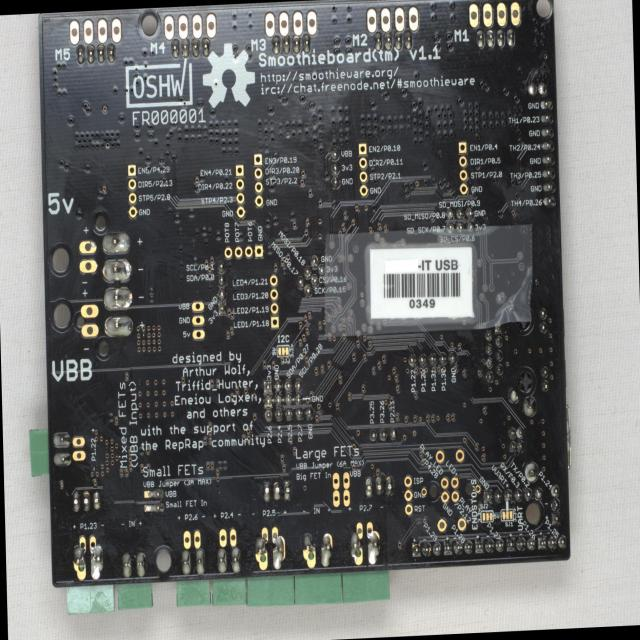Connector: (162, 10, 218, 42), (262, 7, 318, 38), (67, 16, 123, 46), (364, 4, 420, 34), (468, 0, 522, 29), (77, 237, 99, 277), (356, 140, 369, 198), (223, 243, 264, 261), (252, 151, 264, 210), (456, 138, 468, 196), (126, 162, 138, 220), (268, 273, 280, 330), (80, 302, 98, 340), (234, 163, 246, 219), (190, 300, 206, 341), (332, 471, 349, 507), (440, 476, 459, 504), (436, 516, 466, 532), (403, 474, 414, 516), (435, 448, 465, 463), (70, 435, 85, 462), (182, 529, 201, 549), (218, 528, 236, 549)
Pads: (481, 509, 494, 522), (276, 345, 289, 357), (500, 508, 513, 520)
Pins: (411, 534, 567, 557), (101, 230, 133, 338), (540, 98, 556, 208), (70, 534, 104, 580), (348, 520, 381, 567), (253, 525, 286, 571), (295, 254, 327, 299), (484, 320, 504, 388), (302, 532, 334, 570), (262, 378, 302, 407), (482, 487, 542, 503), (372, 29, 413, 52), (475, 27, 516, 50), (75, 43, 117, 65), (263, 405, 314, 423), (170, 37, 211, 59), (271, 33, 311, 55), (407, 350, 458, 367), (445, 207, 474, 234), (120, 550, 146, 579), (52, 430, 72, 466), (71, 489, 102, 512), (261, 480, 292, 502), (216, 547, 242, 573), (181, 548, 205, 576), (364, 475, 395, 496), (216, 259, 227, 316), (142, 489, 165, 514), (328, 147, 341, 190), (367, 425, 398, 443), (507, 424, 525, 454), (549, 483, 560, 526), (523, 460, 540, 483), (522, 394, 538, 418), (526, 81, 547, 96), (538, 305, 548, 336), (540, 363, 550, 394)
Test Point: (475, 484, 481, 493)
